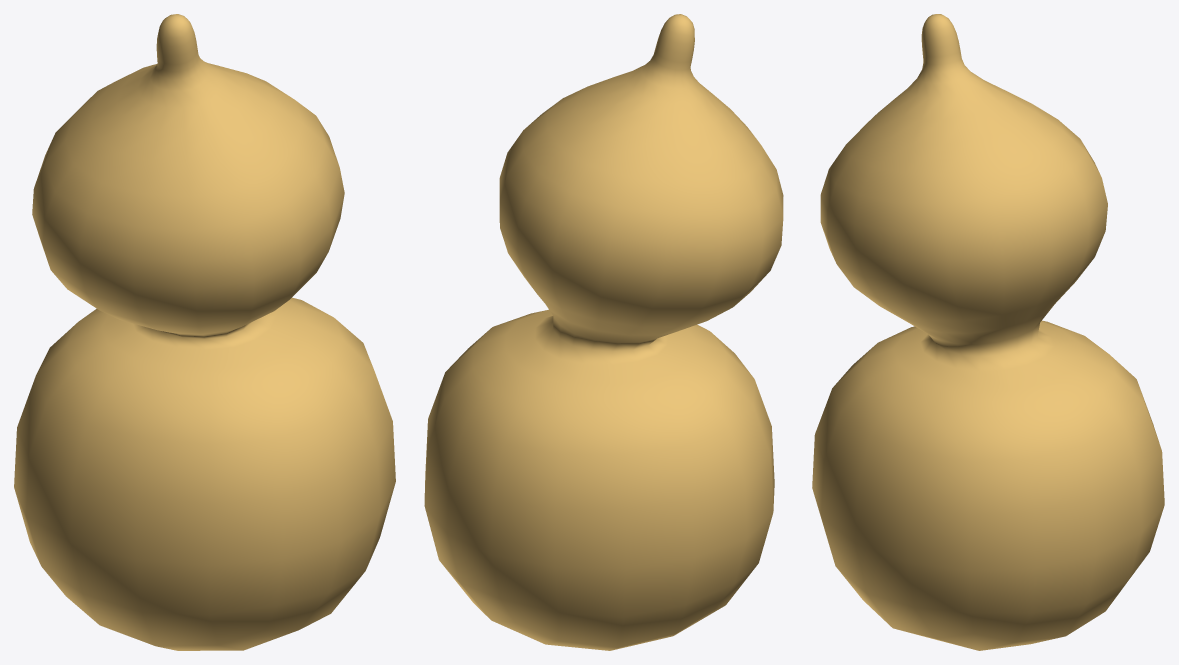
File: hyoutan.fbx
The picture shows the model from 3 angles, left to right: view 1: azimuth 30°, elevation 25°; view 2: azimuth 150°, elevation 25°; view 3: azimuth 270°, elevation 25°; orthographic projection. The views are drawn at different scales.
Visible parts, largest first — view 1: ひょうたん; view 2: ひょうたん; view 3: ひょうたん.
Part boxes in pixels (<box>): ひょうたん: <box>14,14,395,650</box>; ひょうたん: <box>424,14,783,650</box>; ひょうたん: <box>812,14,1164,650</box>.
Bounding box in the file's own units: 276 × 510 × 276.
